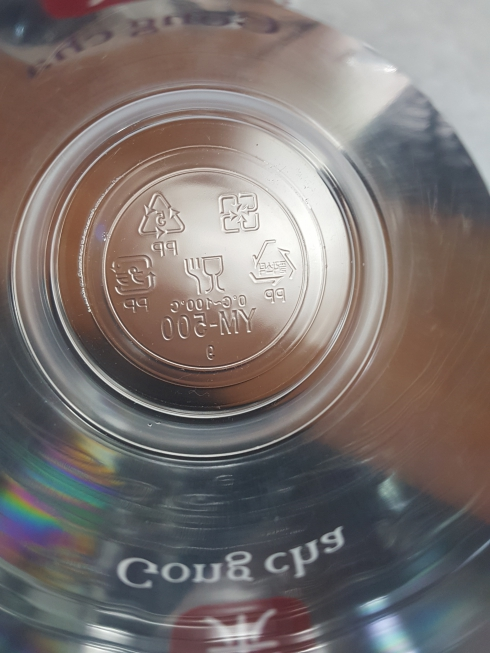recycle: (133, 184, 190, 259)
